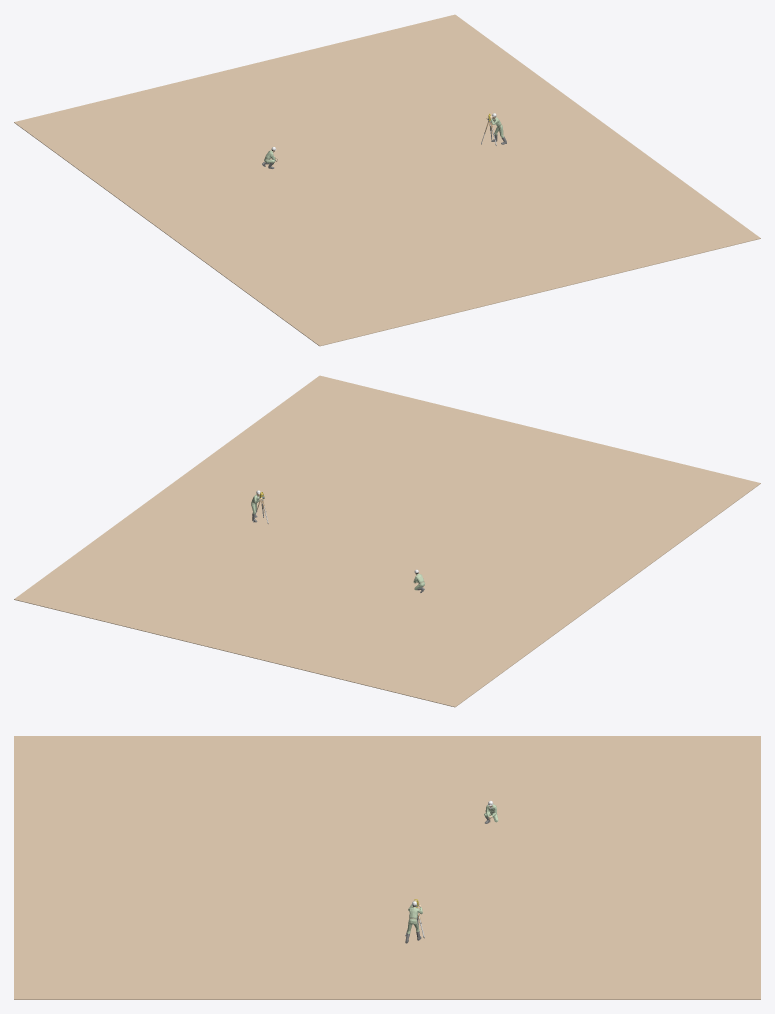
Rendered from asset.glb.
3 views of the same model, one above another, from view 1: azimuth 30°, elevation 25°; view 2: azimuth 150°, elevation 25°; view 3: azimuth 270°, elevation 25° (orthographic). The views are drawn at different scales.
Parts seen in each view (by area): view 1: #00_Surface EG; view 2: #00_Surface EG; view 3: #00_Surface EG.
Boxes of the visible parts, x1,y1,x2,y2 form: #00_Surface EG: (14,14,760,346); #00_Surface EG: (14,375,760,707); #00_Surface EG: (14,736,760,999).
Size of the model in its own units: 25 by 2.63 by 30.
